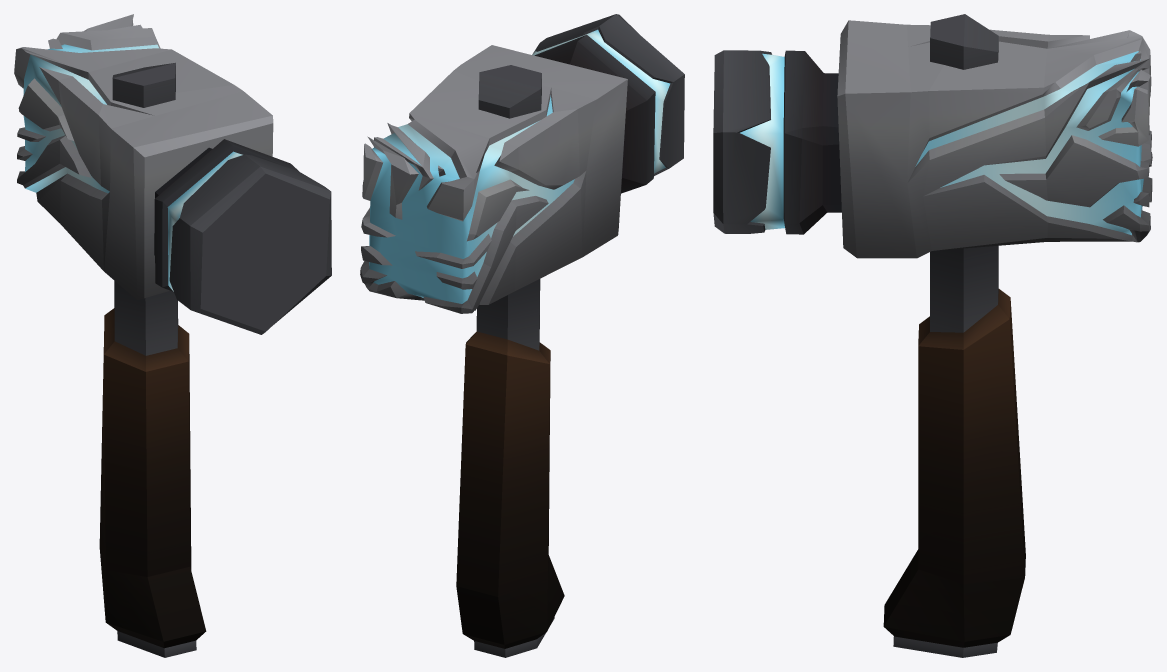
File: thunderHammer_mdl.FBX
3 renders of one model, left to right at view 1: azimuth 30°, elevation 25°; view 2: azimuth 150°, elevation 25°; view 3: azimuth 270°, elevation 25°, orthographic. The views are drawn at different scales.
Visible parts, largest first — view 1: thunderHammer_mdl; view 2: thunderHammer_mdl; view 3: thunderHammer_mdl.
Part boxes in pixels (left/top/right/bottom): thunderHammer_mdl: left=14, top=14, right=331, bottom=657; thunderHammer_mdl: left=360, top=14, right=684, bottom=657; thunderHammer_mdl: left=713, top=14, right=1152, bottom=657.
Bounding box in the file's own units: 177 × 670 × 436.
1 material, 1 textured.
